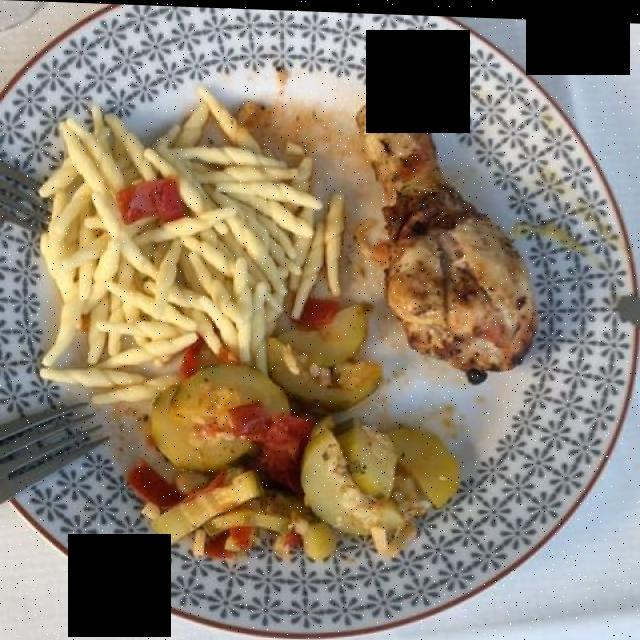chicken: (335, 75, 575, 421)
pasta: (20, 84, 369, 411)
ratatouille: (118, 292, 494, 586)
